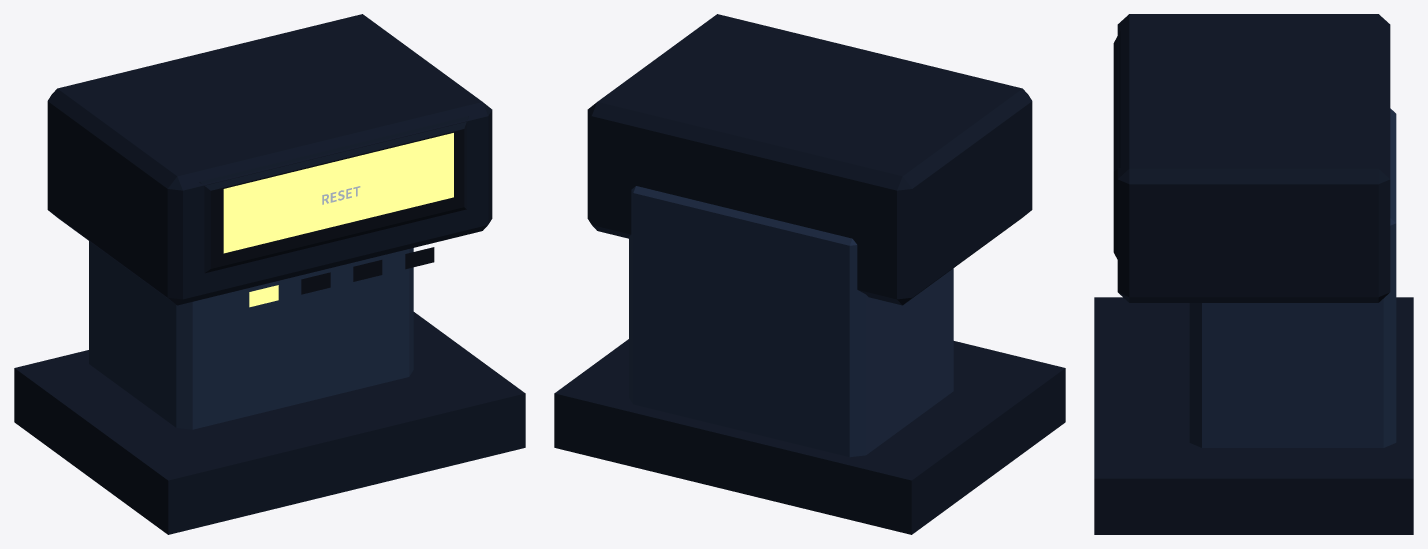
Rendered from ResetConsole.fbx.
3 views of the same model, side by side, from view 1: azimuth 30°, elevation 25°; view 2: azimuth 150°, elevation 25°; view 3: azimuth 270°, elevation 25° (orthographic). The views are drawn at different scales.
Parts seen in each view (by area): view 1: KIT_ResetConsole_Mesh; view 2: KIT_ResetConsole_Mesh; view 3: KIT_ResetConsole_Mesh.
Boxes of the visible parts, x1,y1,x2,y2 form: KIT_ResetConsole_Mesh: [14, 14, 525, 534]; KIT_ResetConsole_Mesh: [554, 14, 1065, 534]; KIT_ResetConsole_Mesh: [1094, 14, 1413, 534].
Size of the model in its own units: 1.1 by 1 by 0.82.
